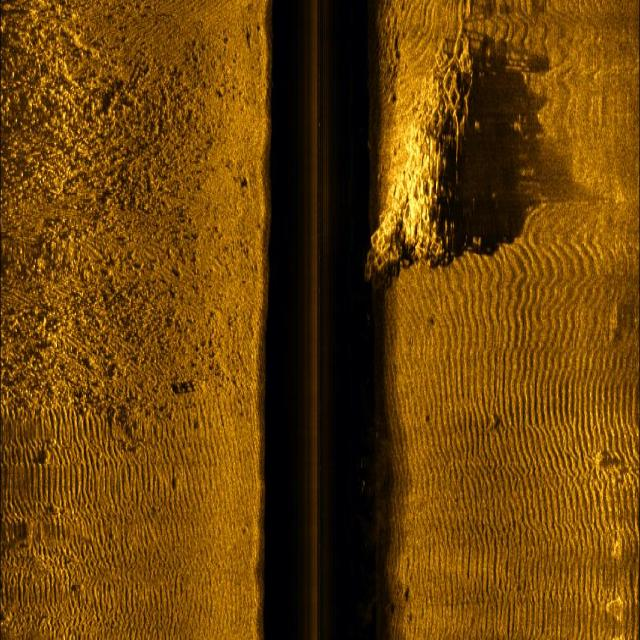artificial reef: (360, 33, 484, 289)
